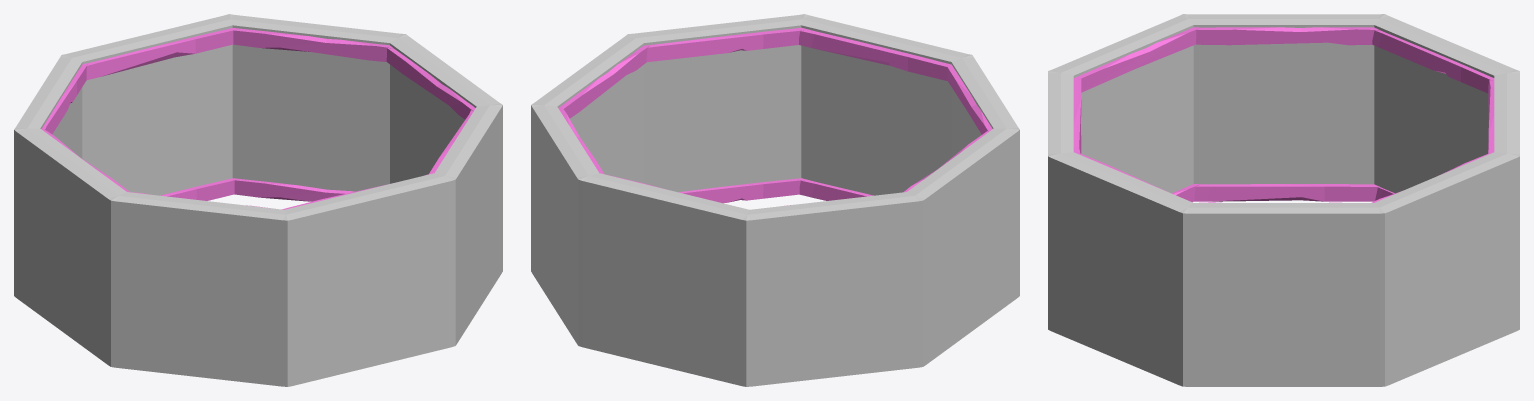
The model's file is SM_Tower_Round_7m_Blank_Fantasy.fbx.
3 renders of one model, left to right at view 1: azimuth 30°, elevation 25°; view 2: azimuth 150°, elevation 25°; view 3: azimuth 270°, elevation 25°, orthographic. The views are drawn at different scales.
Visible parts, largest first — view 1: SM_Tower_Round_7m_Blank_Fantasy; view 2: SM_Tower_Round_7m_Blank_Fantasy; view 3: SM_Tower_Round_7m_Blank_Fantasy.
Part boxes in pixels (x1,y1,x2,y2): SM_Tower_Round_7m_Blank_Fantasy: (14, 14, 502, 386); SM_Tower_Round_7m_Blank_Fantasy: (531, 14, 1019, 386); SM_Tower_Round_7m_Blank_Fantasy: (1048, 14, 1519, 386).
Size of the model in its own units: 7.4 by 3.03 by 7.4.
